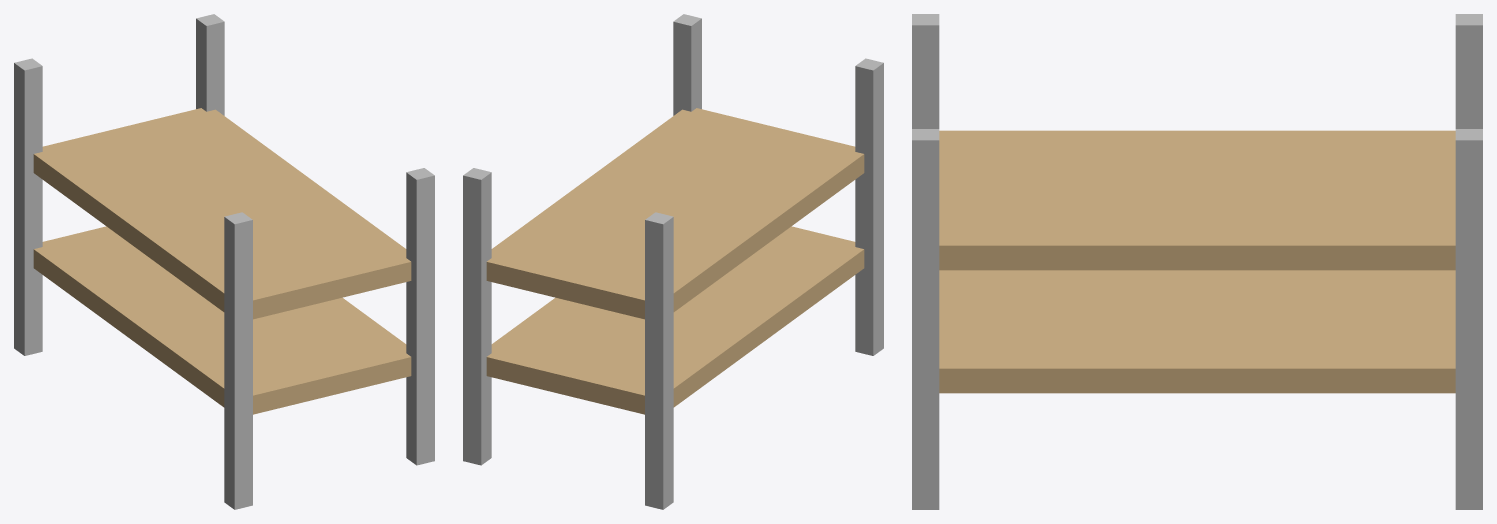
File: storage_rage.fbx
3 renders of one model, left to right at view 1: azimuth 30°, elevation 25°; view 2: azimuth 150°, elevation 25°; view 3: azimuth 270°, elevation 25°, orthographic. The views are drawn at different scales.
Visible parts, largest first — view 1: Cube.004; view 2: Cube.004; view 3: Cube.004.
Part boxes in pixels (bbox=[...]): Cube.004: bbox=[14, 14, 434, 509]; Cube.004: bbox=[463, 14, 883, 509]; Cube.004: bbox=[912, 14, 1482, 509].
Size of the model in its own units: 110 by 150 by 210.
